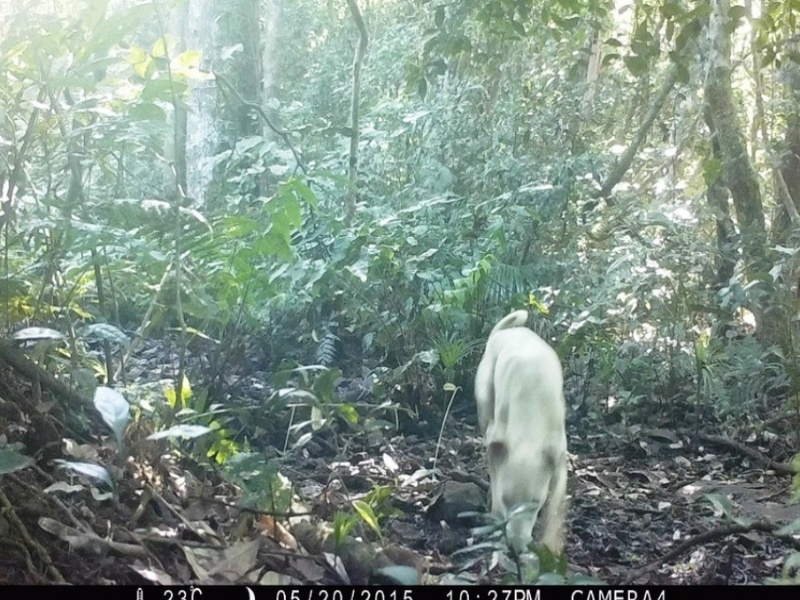dog: (471, 308, 572, 564)
